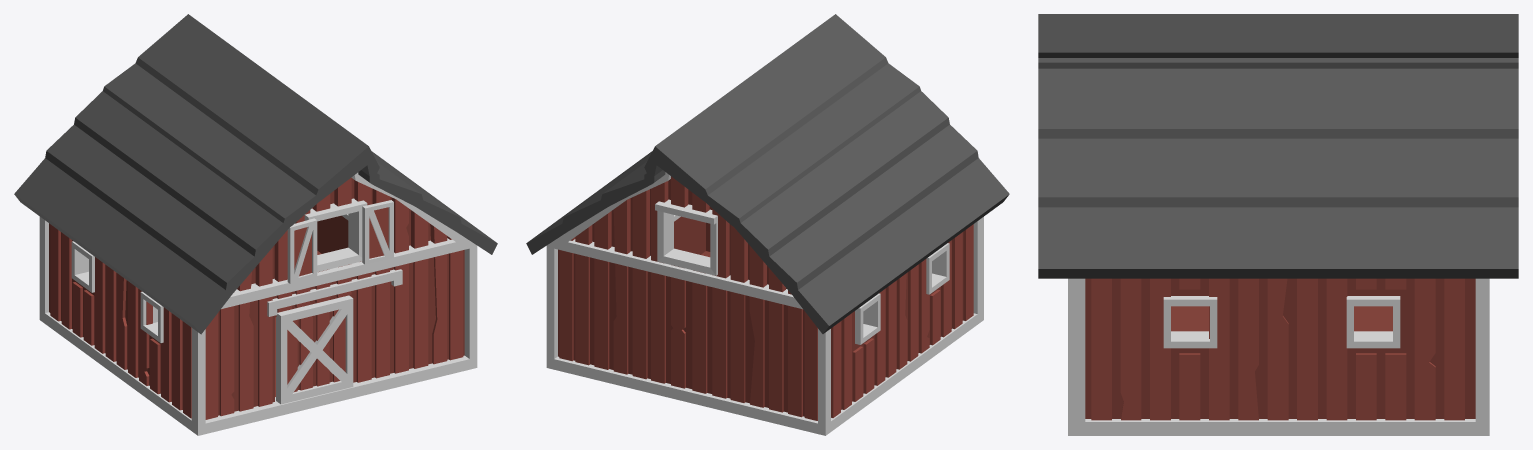
The model's file is smallbarn.glb.
3 renders of one model, left to right at view 1: azimuth 30°, elevation 25°; view 2: azimuth 150°, elevation 25°; view 3: azimuth 270°, elevation 25°, orthographic. The views are drawn at different scales.
Visible parts, largest first — view 1: Small_Barn, Small_Barn_Door, SmallBarn_Window, SmallBarn_Window2; view 2: Small_Barn; view 3: Small_Barn.
Part boxes in pixels (<box>): Small_Barn: <box>14,14,497,435</box>; Small_Barn_Door: <box>276,295,353,404</box>; SmallBarn_Window: <box>362,200,393,264</box>; SmallBarn_Window2: <box>287,218,317,283</box>; Small_Barn: <box>526,14,1009,435</box>; Small_Barn: <box>1038,14,1518,435</box>.
Bounding box in the file's own units: 6.08 × 4.96 × 6.27.
